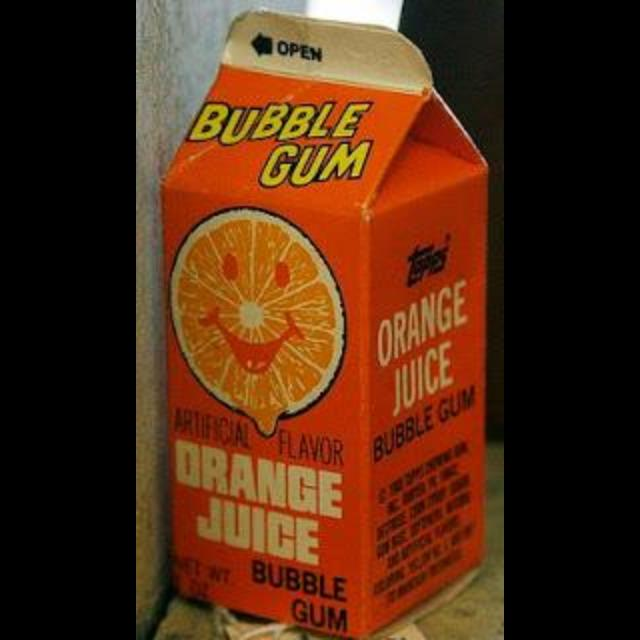caixinha: (160, 8, 490, 640)
